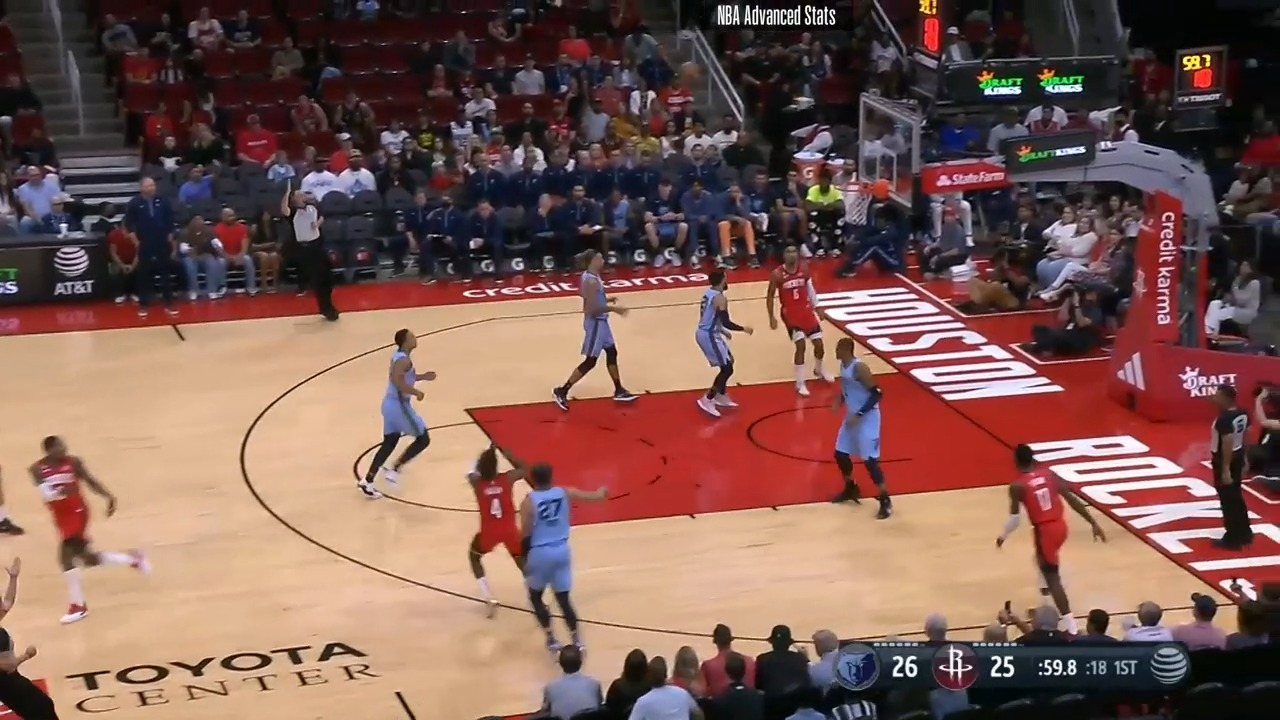net: (833, 174, 895, 229)
player: (20, 430, 150, 626), (991, 442, 1104, 628), (511, 458, 590, 665), (362, 324, 448, 503), (814, 333, 892, 523), (551, 245, 634, 415), (458, 447, 532, 630), (761, 245, 830, 401), (692, 264, 755, 421)
referee: (276, 182, 346, 330), (1209, 381, 1267, 557)
